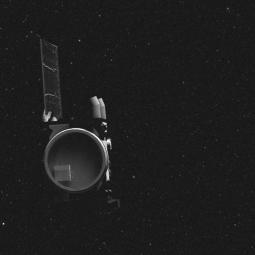proba_3_csc: (24, 24, 137, 231)
